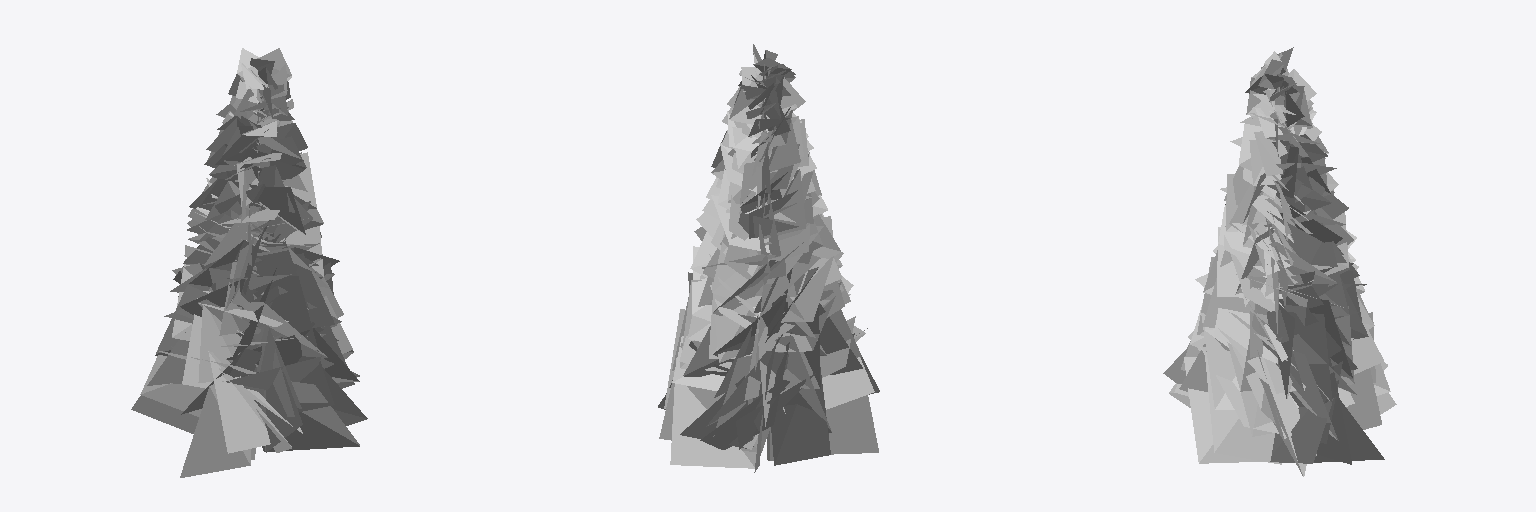
File: Tree-scaled.obj
3 views of the same model, side by side, from view 1: azimuth 30°, elevation 25°; view 2: azimuth 150°, elevation 25°; view 3: azimuth 270°, elevation 25° (orthographic).
Visible parts, largest first — view 1: Tree; view 2: Tree; view 3: Tree.
Part boxes in pixels (x1,y1,x2,y2): Tree: (131,48,367,477); Tree: (658,44,879,472); Tree: (1163,47,1396,476).
Bounding box in the file's own units: 1.57 × 3.29 × 1.68.